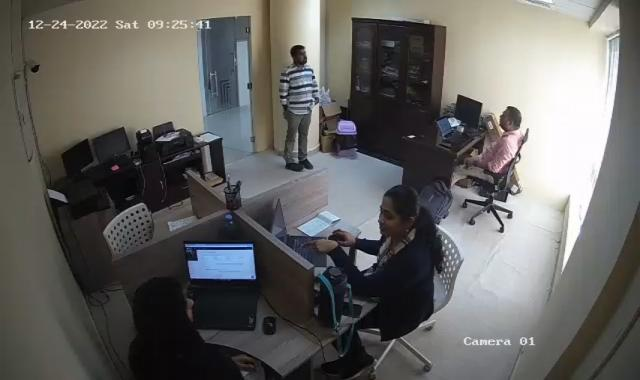no_hairnet: (136, 278, 196, 340), (376, 186, 418, 237), (498, 106, 522, 130), (288, 40, 309, 66)
